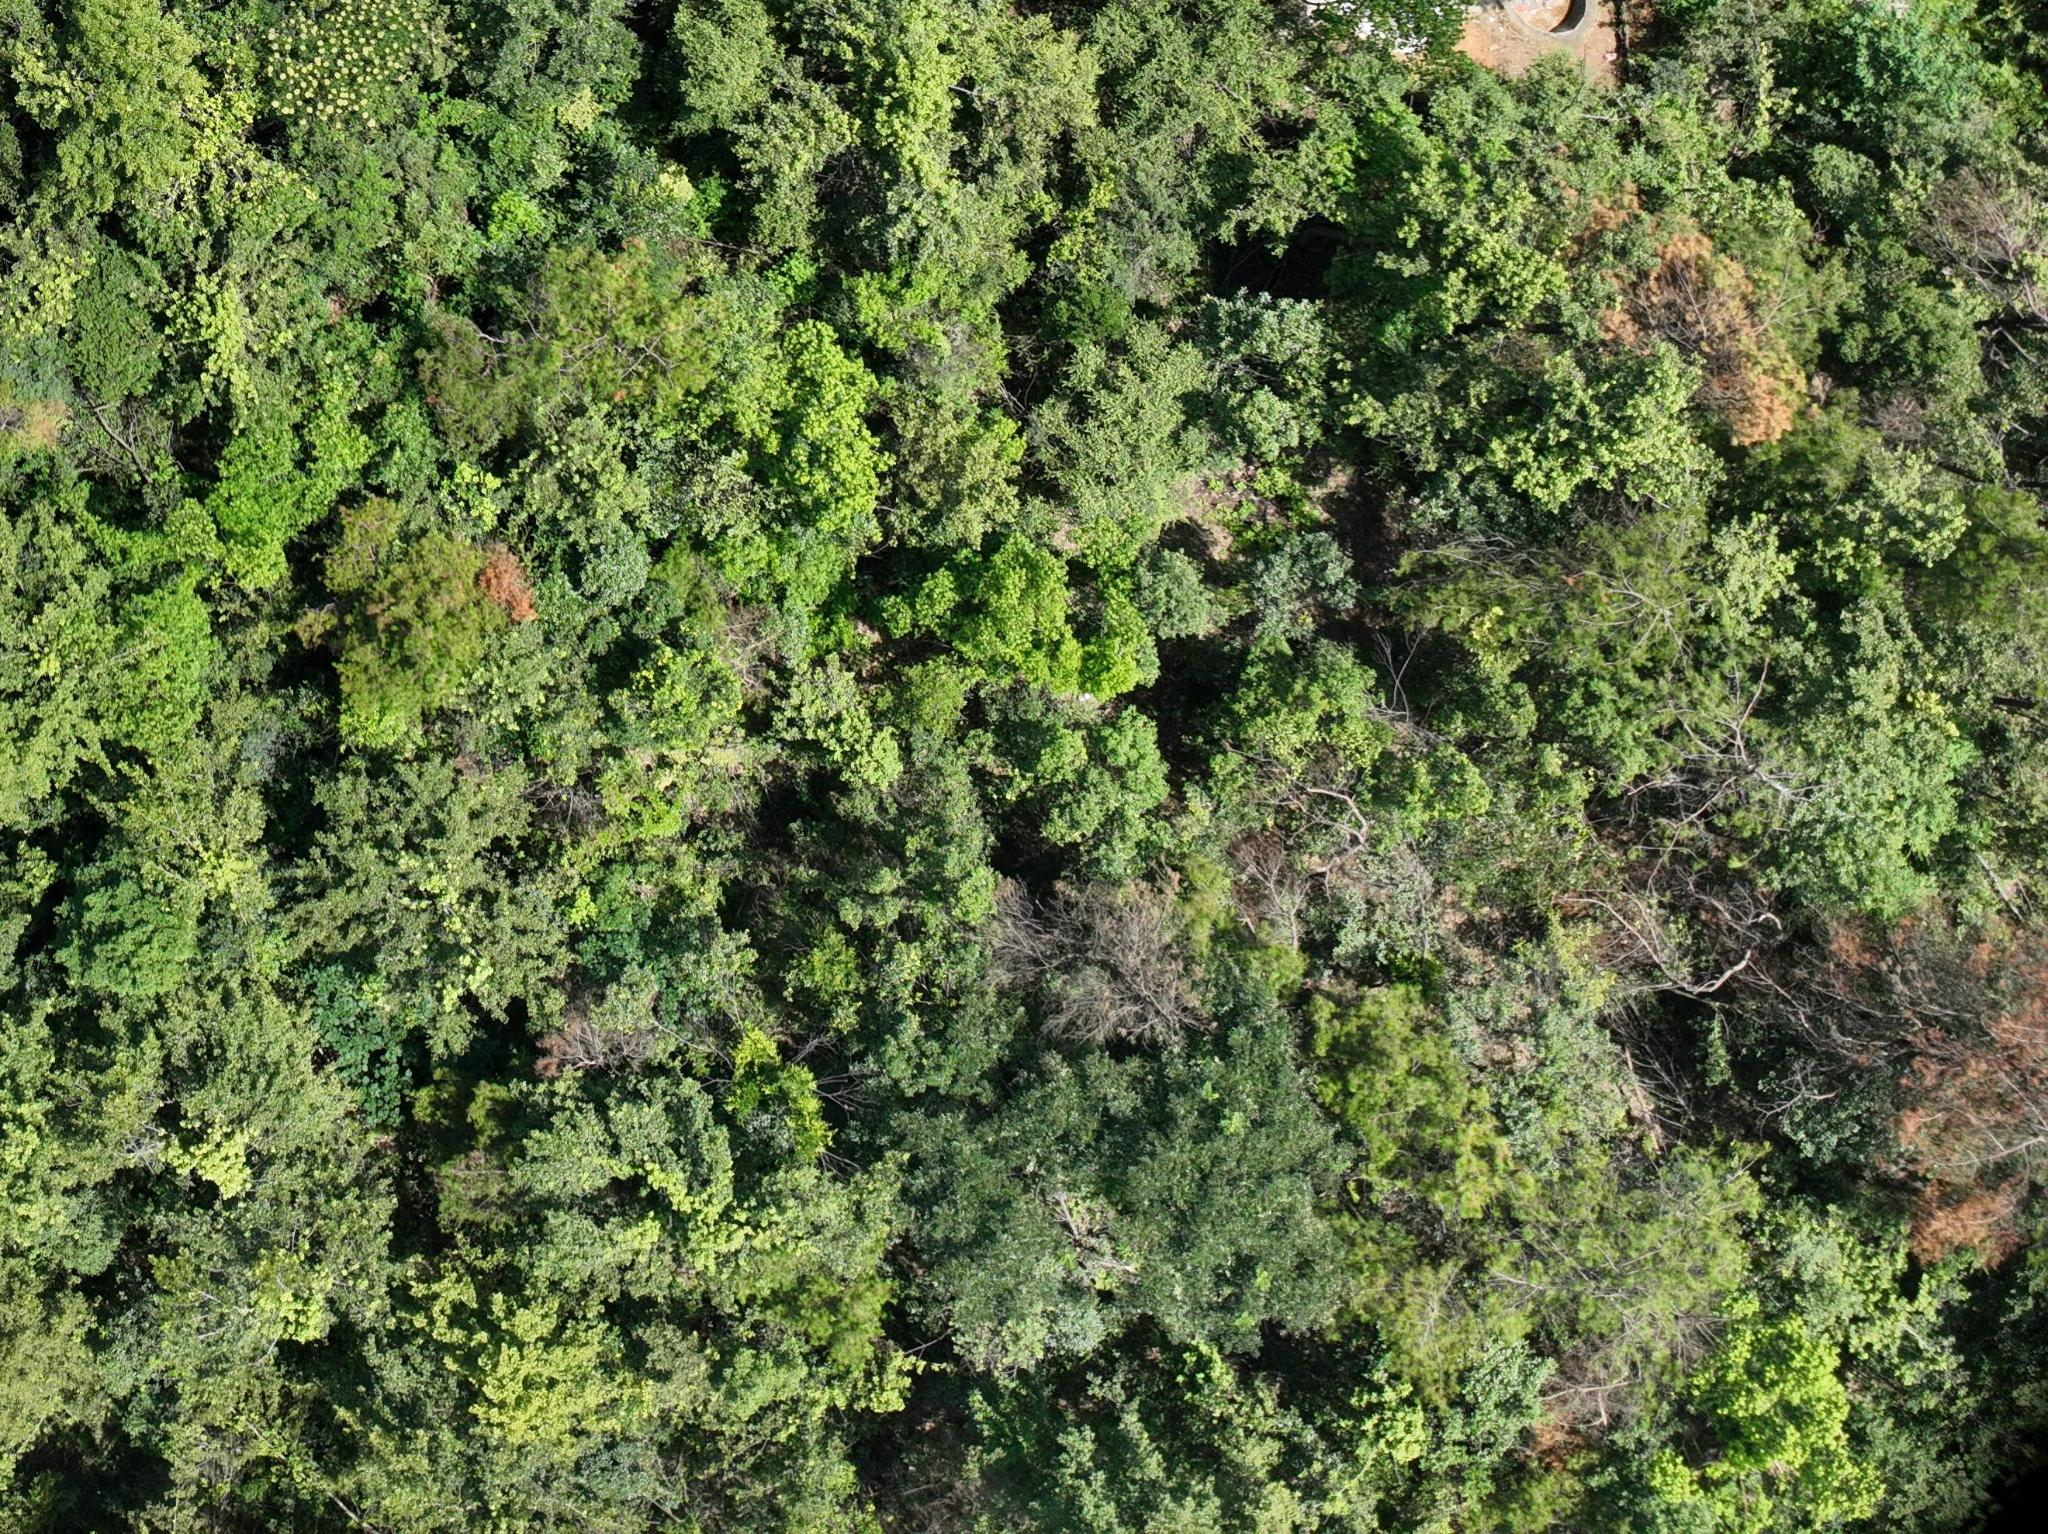heavy: (1840, 917, 2033, 1276), (1618, 211, 1790, 458), (459, 524, 551, 627)
